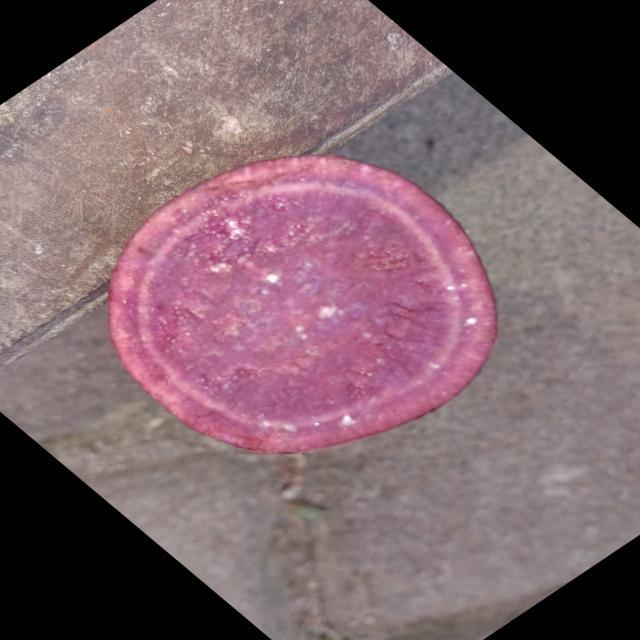Healthy Sweet Potato: (108, 155, 497, 454)
